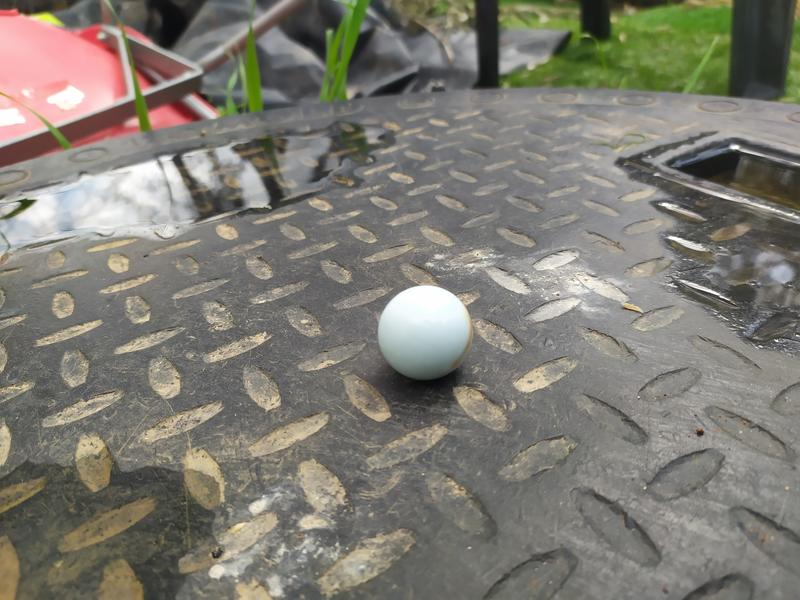Warning: (375, 282, 477, 384)
